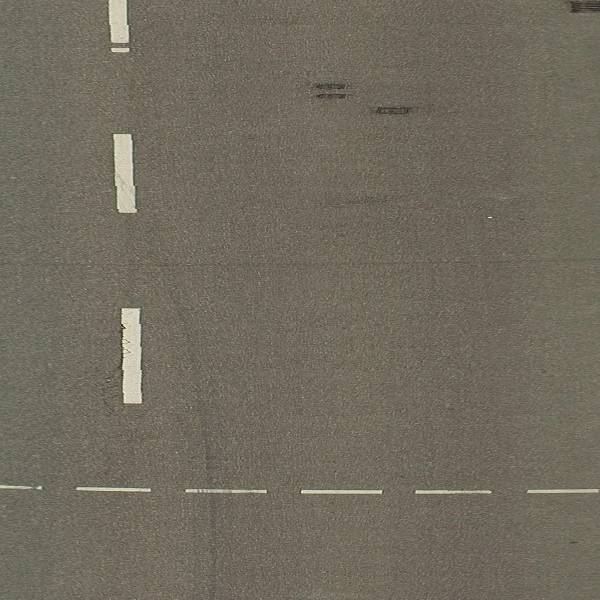road_damage: (67, 253, 600, 274)
